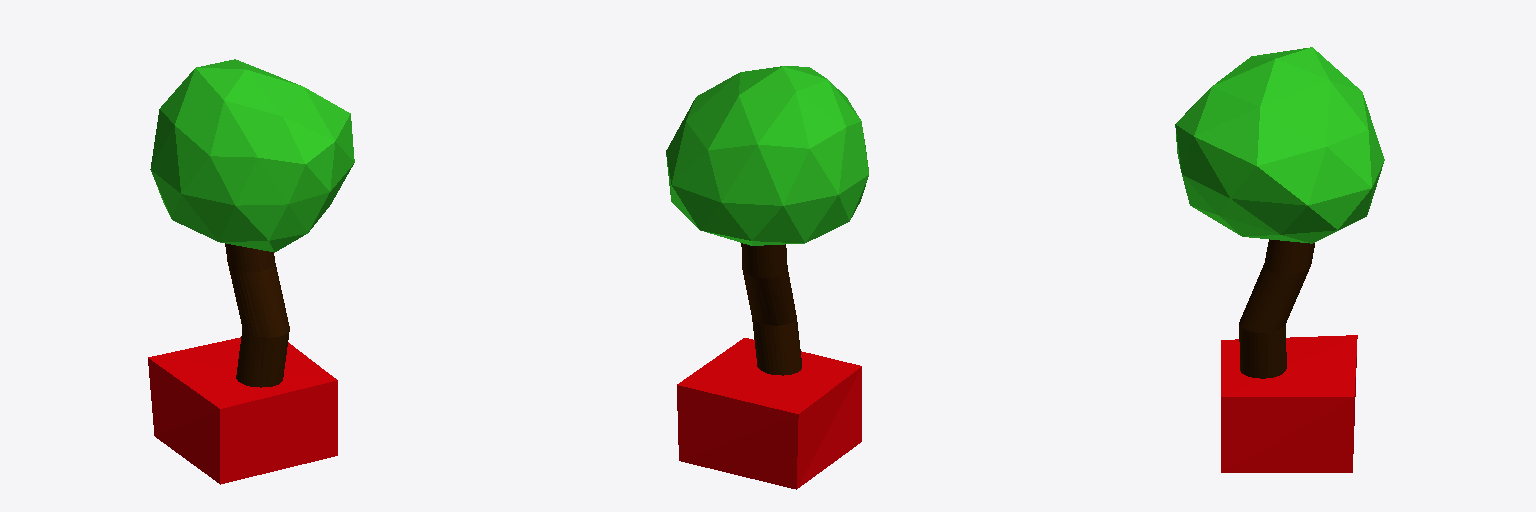
Rendered from planta.obj.
3 renders of one model, left to right at view 1: azimuth 30°, elevation 25°; view 2: azimuth 150°, elevation 25°; view 3: azimuth 270°, elevation 25°, orthographic.
Visible parts, largest first — view 1: Icosphere, Cube.036, Cylinder; view 2: Icosphere, Cube.036, Cylinder; view 3: Icosphere, Cube.036, Cylinder.
Boxes of the visible parts, box(x1,y1,x2,y2) form: Icosphere: box(150, 59, 354, 252); Cube.036: box(148, 337, 337, 484); Cylinder: box(225, 243, 289, 387); Icosphere: box(666, 66, 868, 245); Cube.036: box(677, 338, 861, 489); Cylinder: box(741, 243, 801, 375); Icosphere: box(1175, 47, 1384, 243); Cube.036: box(1221, 335, 1357, 472); Cylinder: box(1239, 239, 1314, 378).
Bounding box in the file's own units: 0.9286 × 1.93 × 0.956.